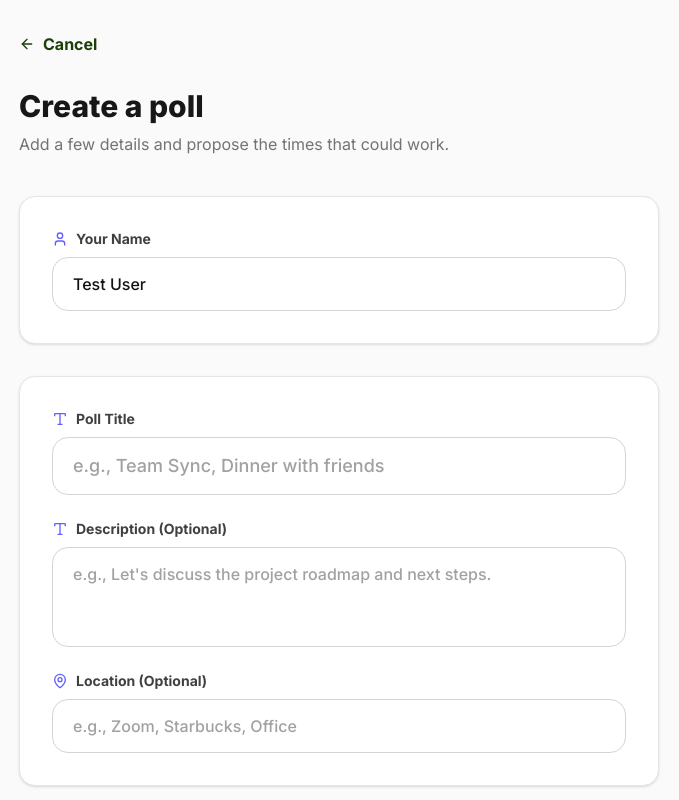
Test: CreatePollPage › disables submit button when title is empty
Type "Title" into the field with test id "poll-title-input" at [339, 466], box [52,437,626,495]
(page scrolled)
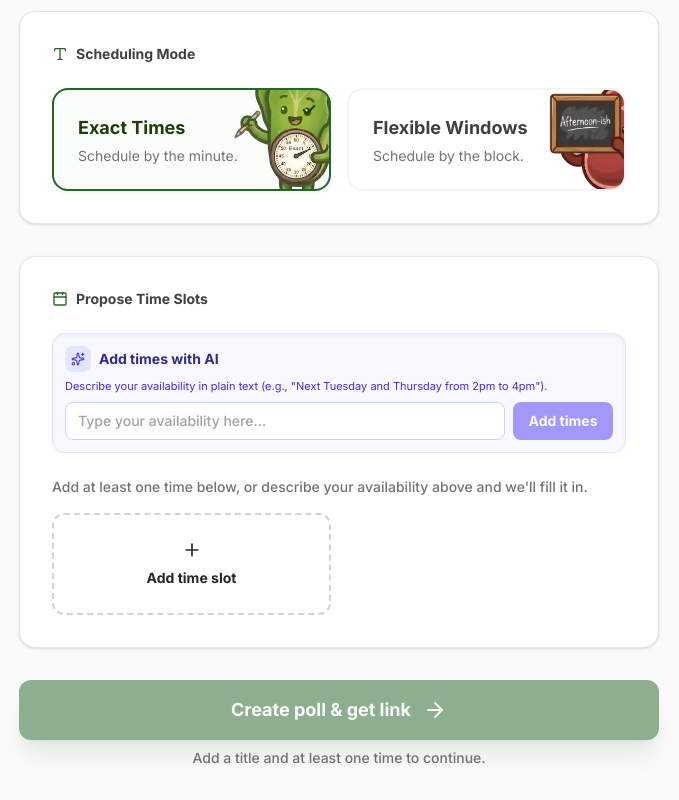
Click the button with test id "add-slot-btn" at [192, 578], box [52,513,331,615]
(page scrolled)
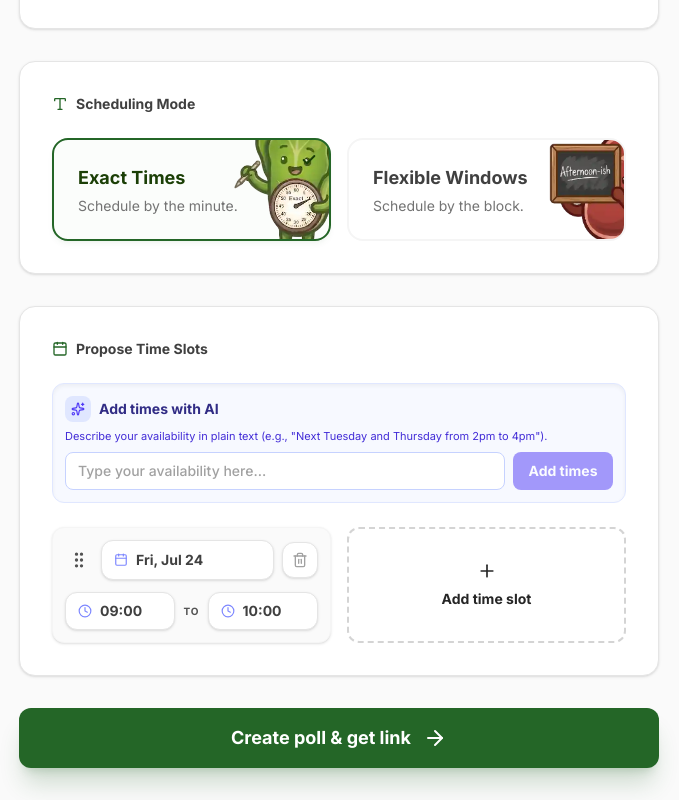
Check: the button with test id "create-submit-btn" is enabled, box [19,708,659,768]
